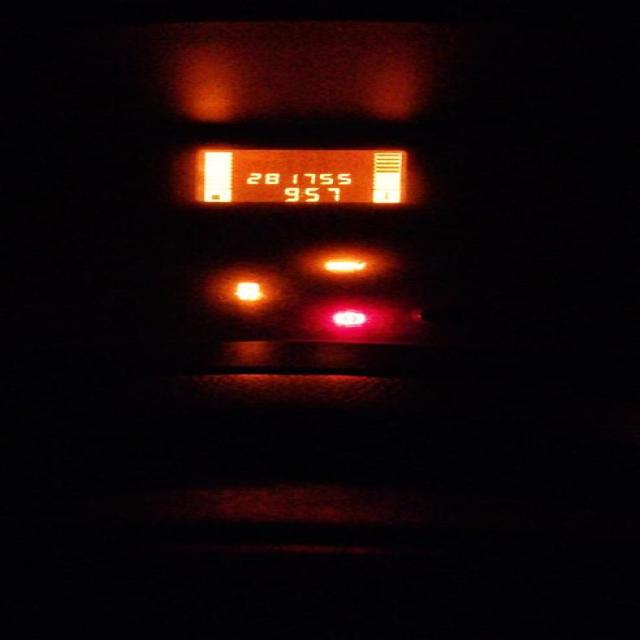odometer: (178, 145, 414, 208)
